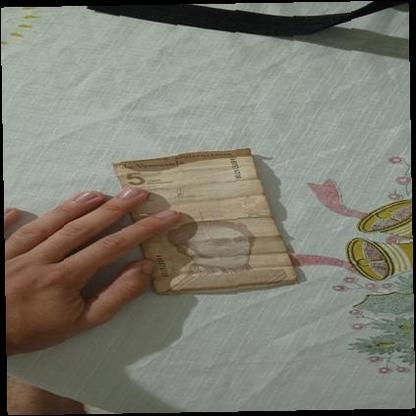vef_front: (112, 148, 299, 294)
